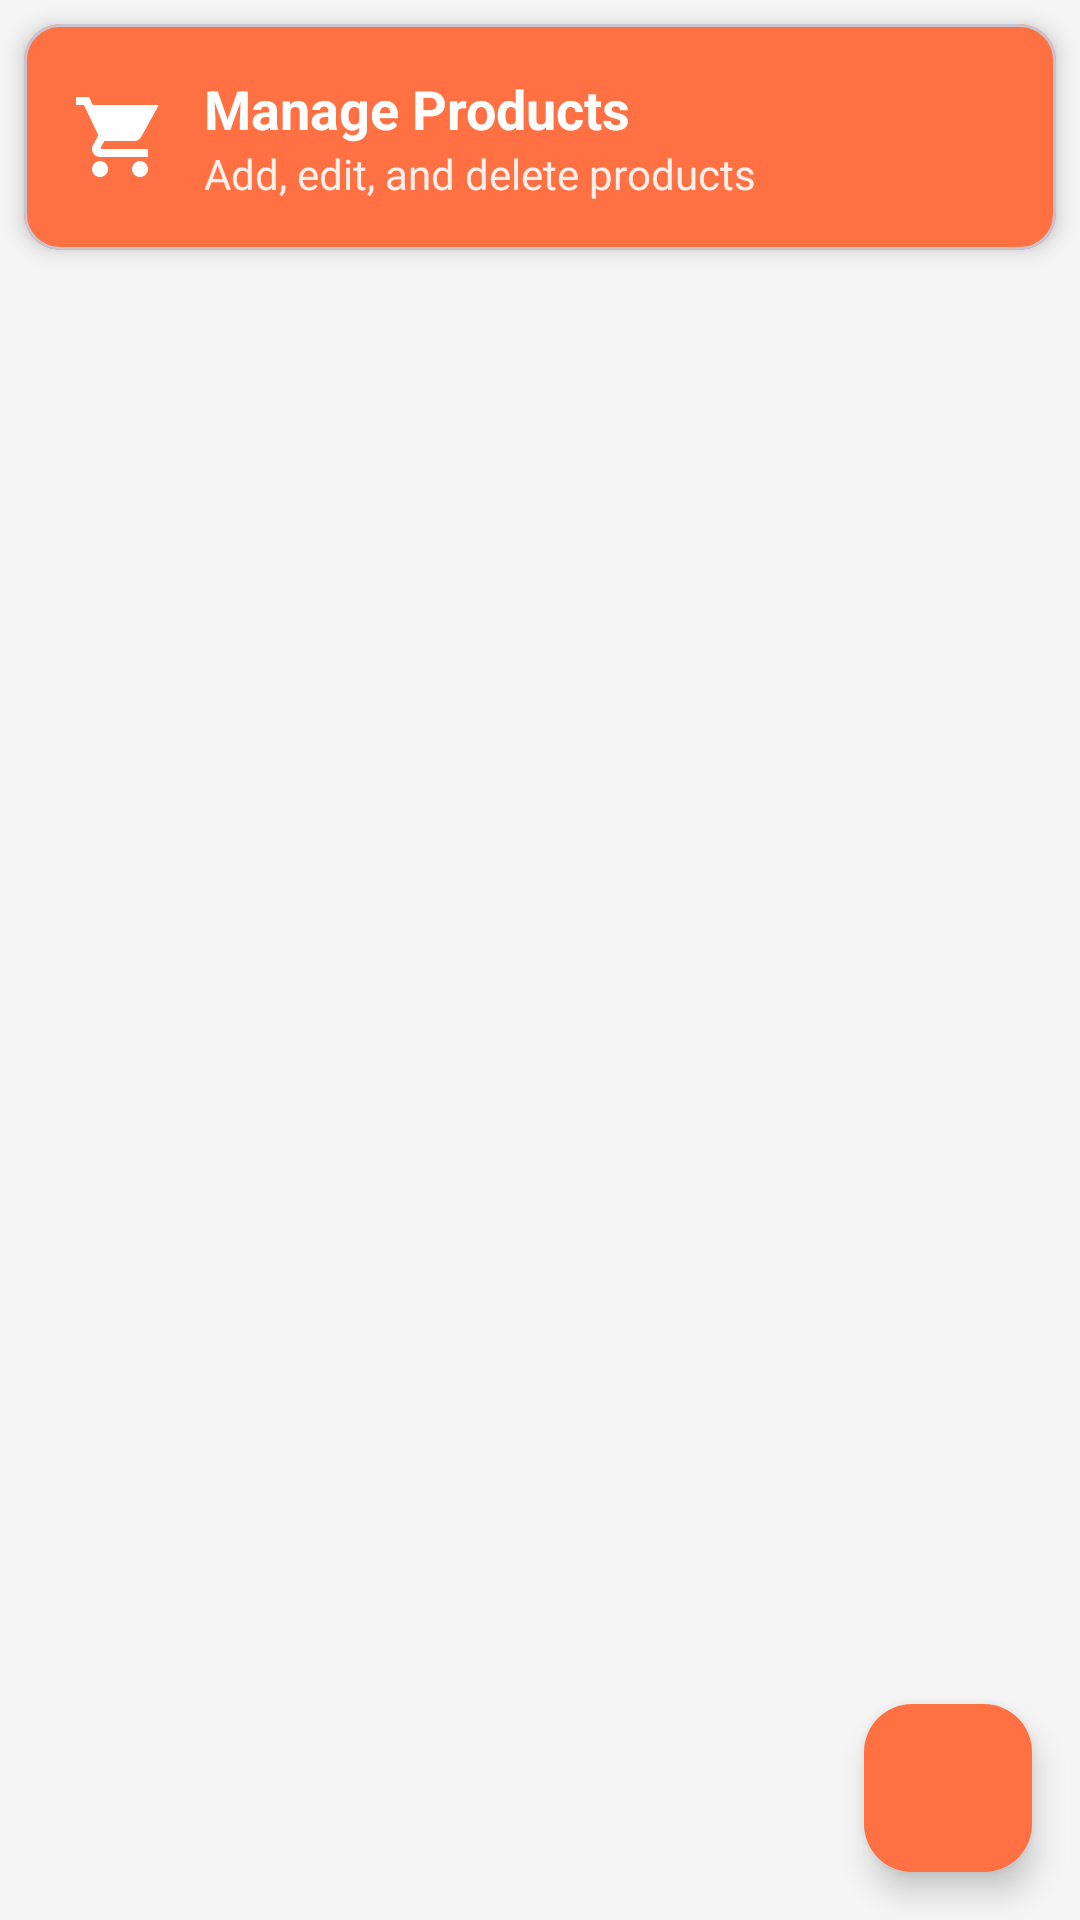

Locate icon controls on the screen. Image size 1080 x 1920, boxes as (x1, y1, x2, y2).
shopping cart: (76, 97, 159, 177)
